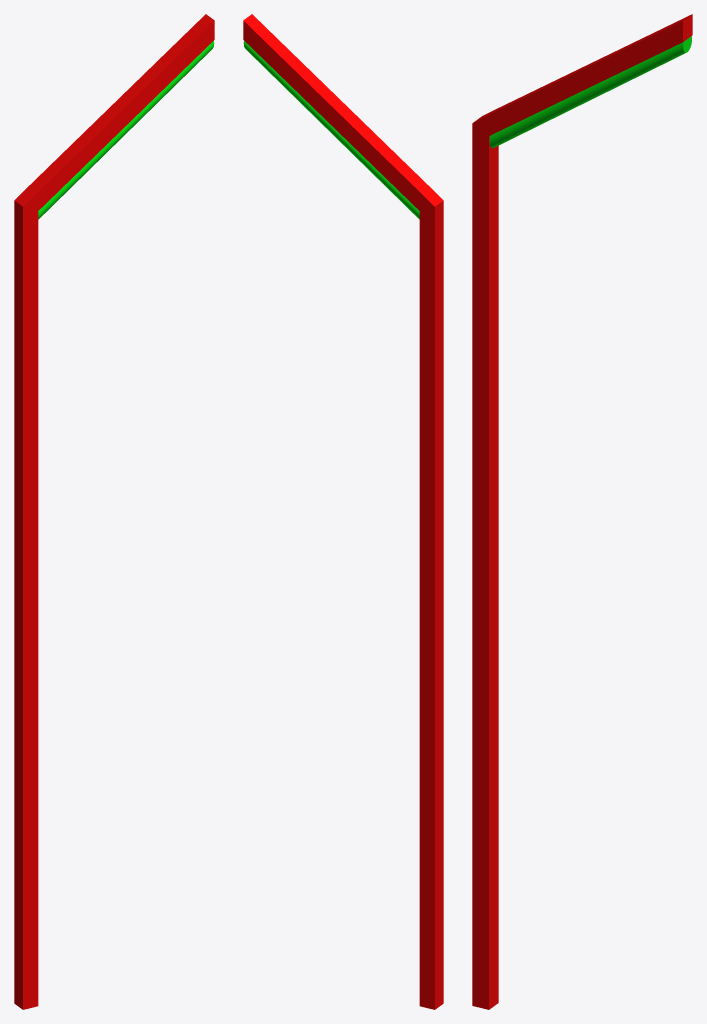
The model's file is SM_Lampadaire.FBX.
3 renders of one model, left to right at view 1: azimuth 30°, elevation 25°; view 2: azimuth 150°, elevation 25°; view 3: azimuth 330°, elevation 25°, orthographic. The views are drawn at different scales.
Parts seen in each view (by area): view 1: Box001; view 2: Box001; view 3: Box001.
Part boxes in pixels (left/top/right/bottom): Box001: left=14, top=14, right=214, bottom=1009; Box001: left=243, top=14, right=443, bottom=1009; Box001: left=472, top=14, right=692, bottom=1009.
Size of the model in its own units: 12.61 by 59.3 by 1.
